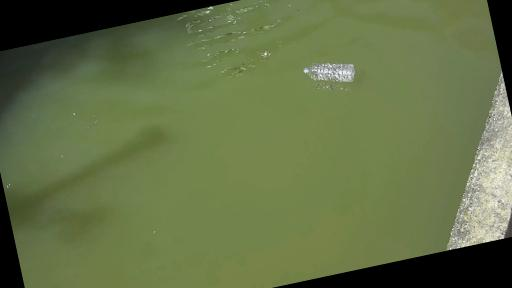plastic: (287, 43, 364, 99)
